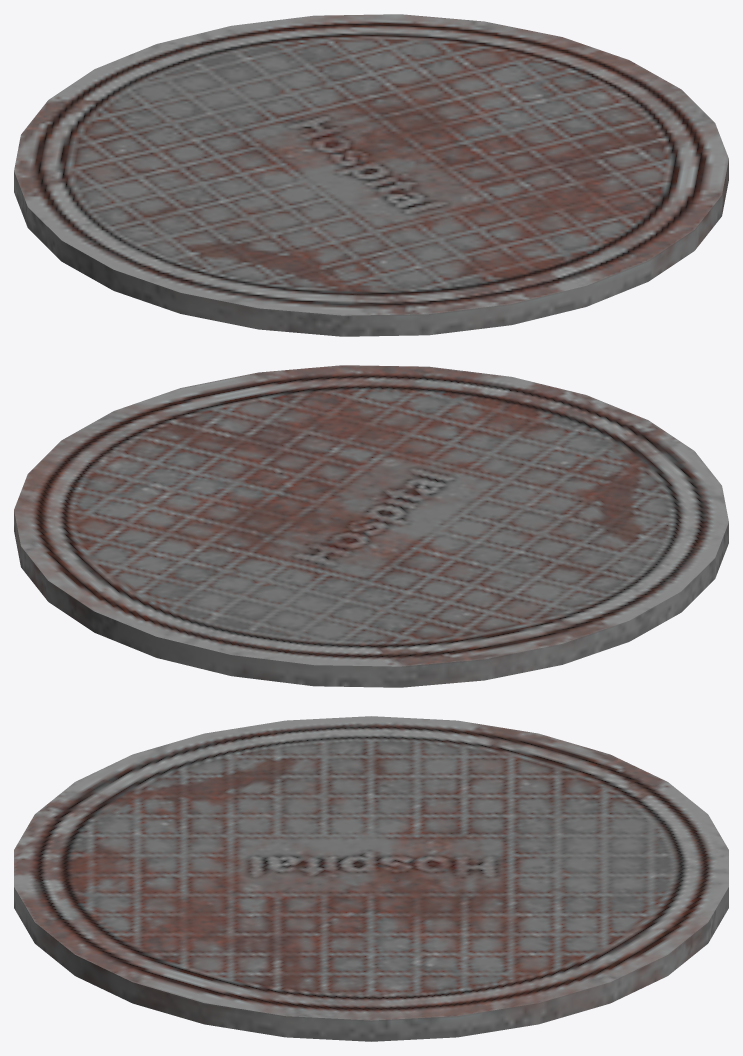
File: HH_Sewage.fbx
3 views of the same model, one above another, from view 1: azimuth 30°, elevation 25°; view 2: azimuth 150°, elevation 25°; view 3: azimuth 270°, elevation 25° (orthographic).
Parts seen in each view (by area): view 1: HH_Sewage; view 2: HH_Sewage; view 3: HH_Sewage.
Boxes of the visible parts, x1,y1,x2,y2 form: HH_Sewage: (14, 14, 728, 336); HH_Sewage: (14, 365, 728, 687); HH_Sewage: (14, 716, 728, 1041).
Size of the model in its own units: 56.6 by 1.85 by 56.18.
